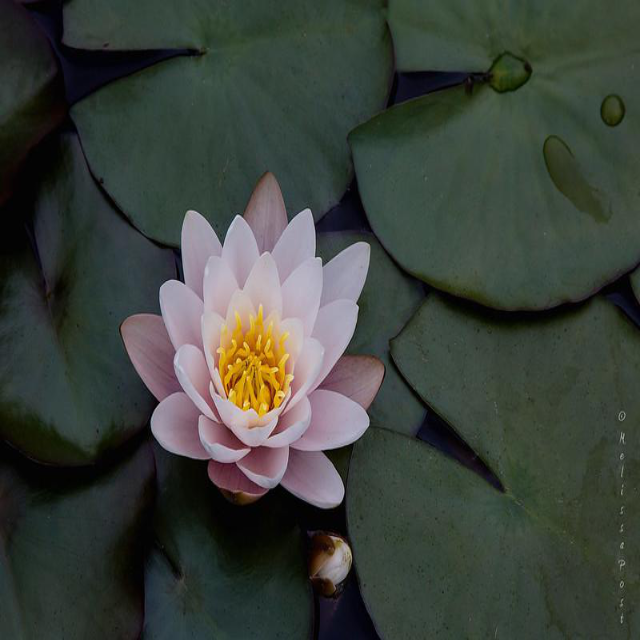water_lily: (114, 169, 387, 518)
